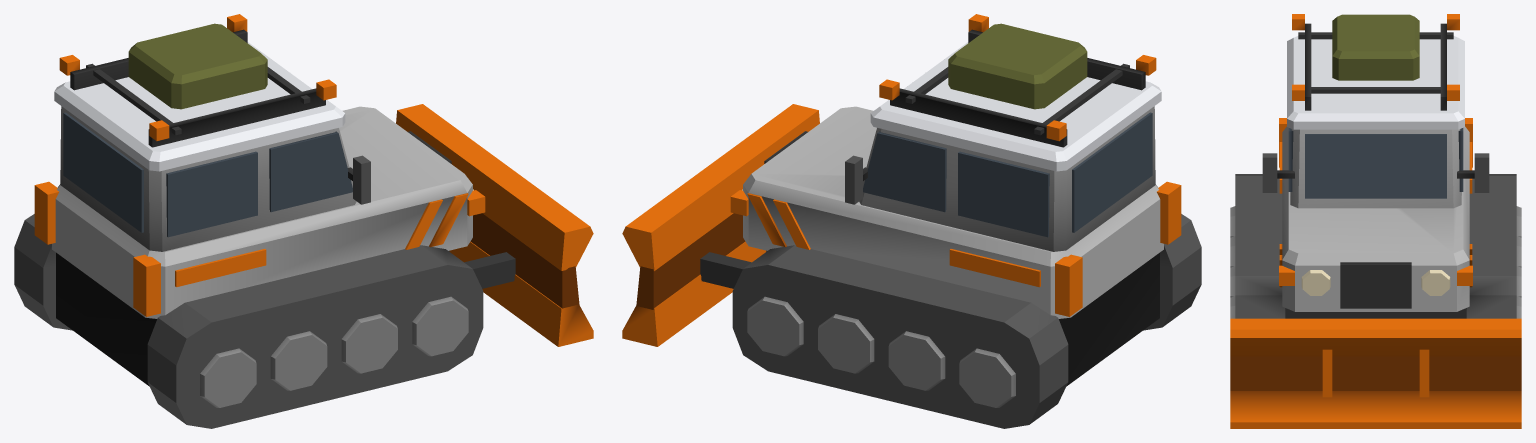
The model's file is snow-tractor.glb.
3 views of the same model, side by side, from view 1: azimuth 30°, elevation 25°; view 2: azimuth 150°, elevation 25°; view 3: azimuth 270°, elevation 25° (orthographic). The views are drawn at different scales.
Visible parts, largest first — view 1: snow-tractor; view 2: snow-tractor; view 3: snow-tractor.
Part boxes in pixels (x1=…): snow-tractor: x1=14, y1=14, x2=593, y2=428; snow-tractor: x1=622, y1=14, x2=1201, y2=428; snow-tractor: x1=1230, y1=14, x2=1521, y2=428.
Bounding box in the file's own units: 2.6 × 1.8 × 1.8.
1 material, 1 textured.
